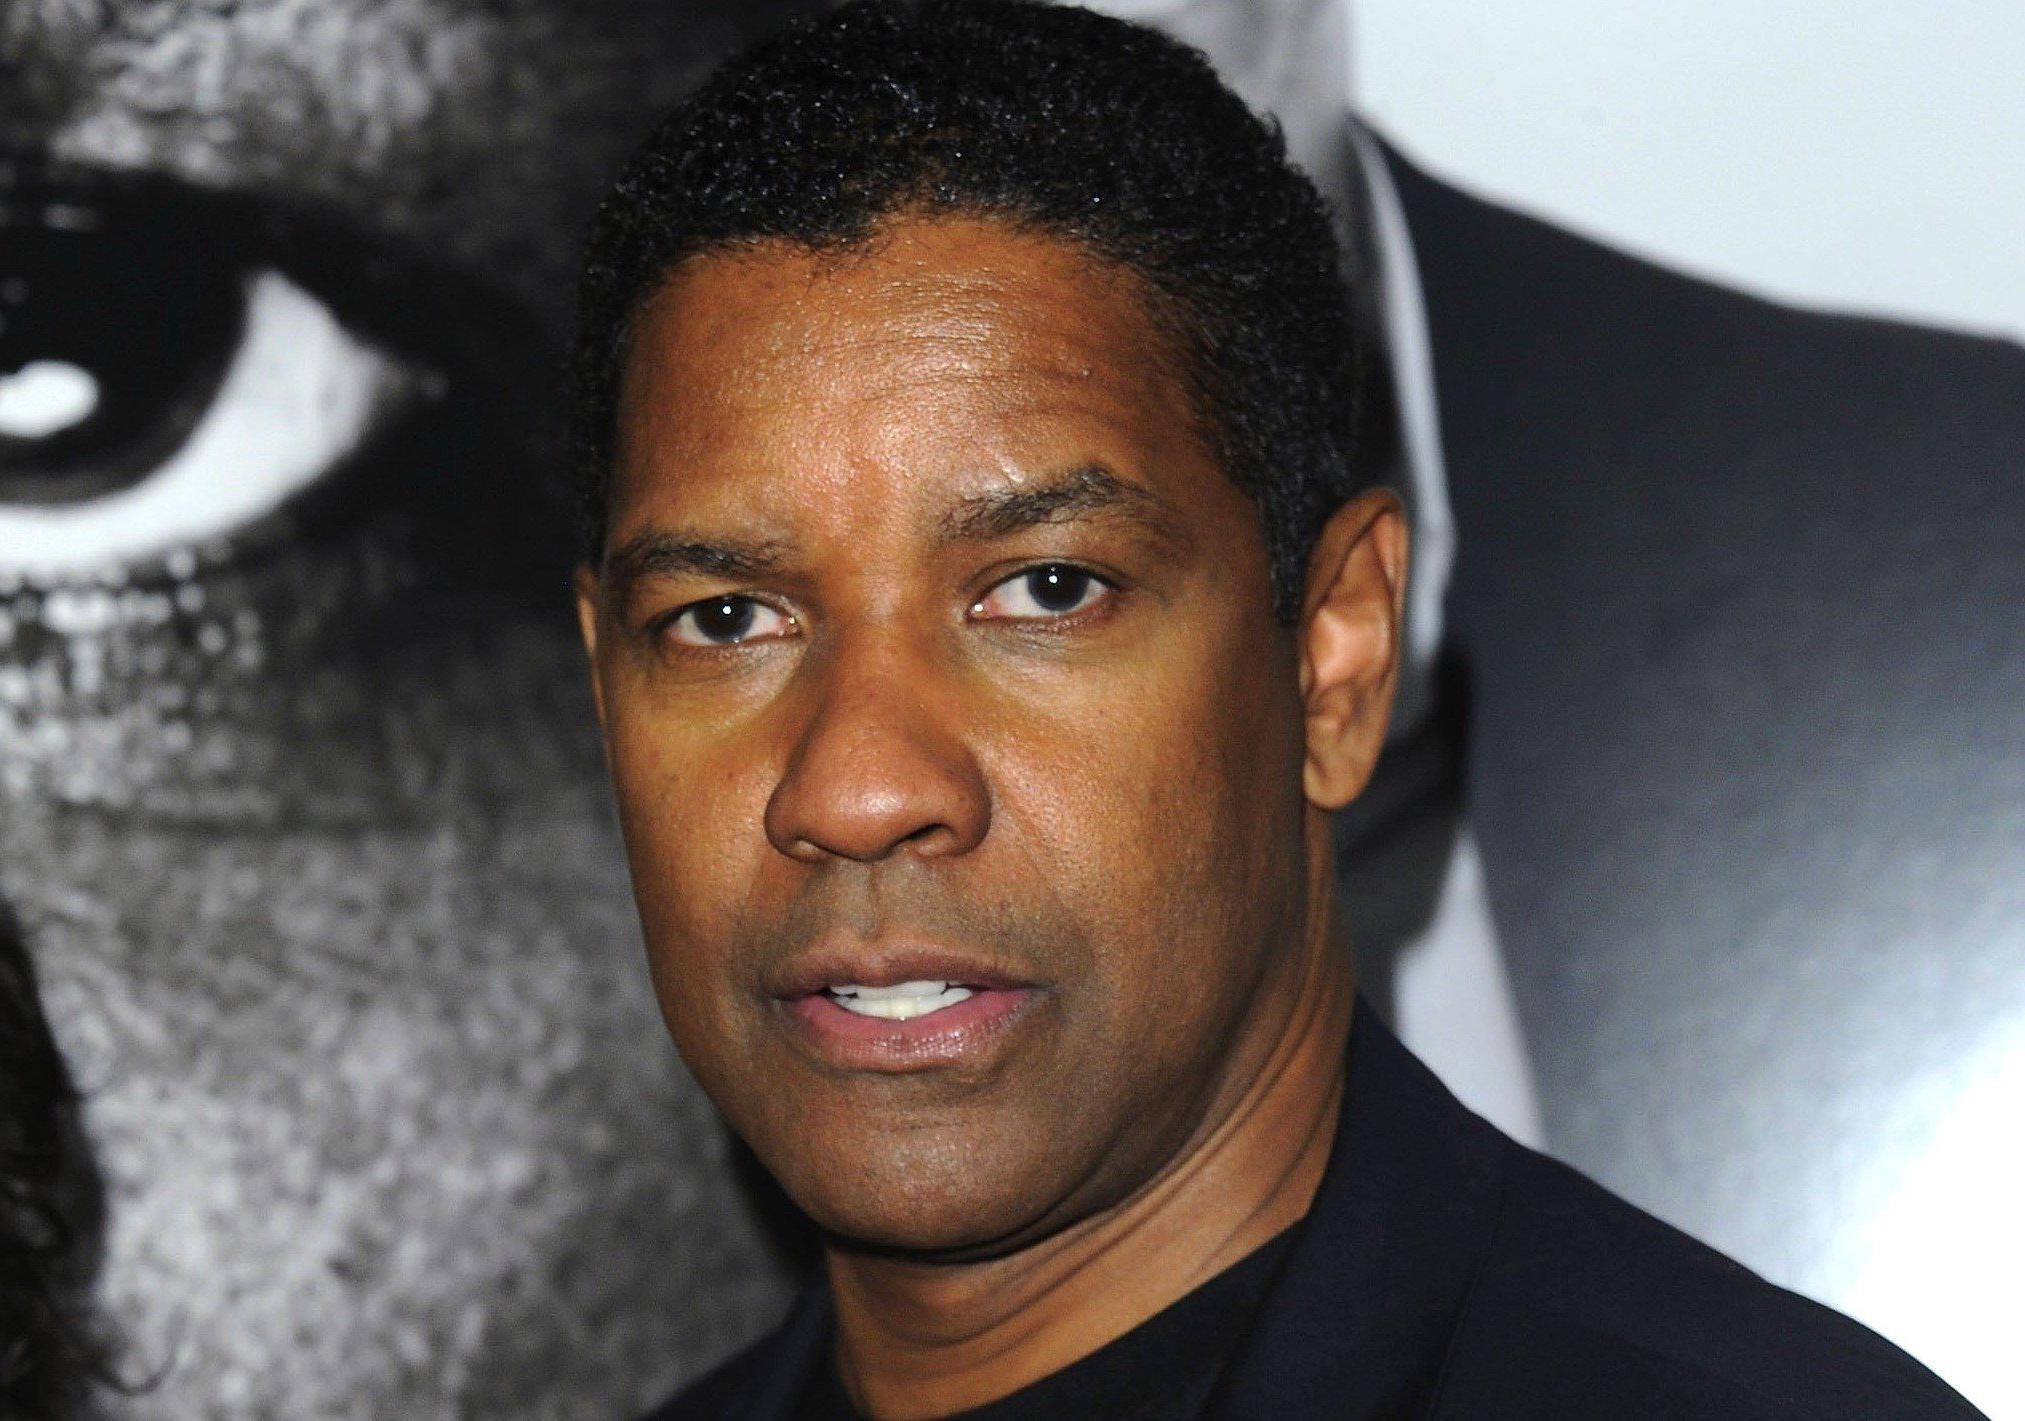Sober: (588, 302, 1240, 1233)
